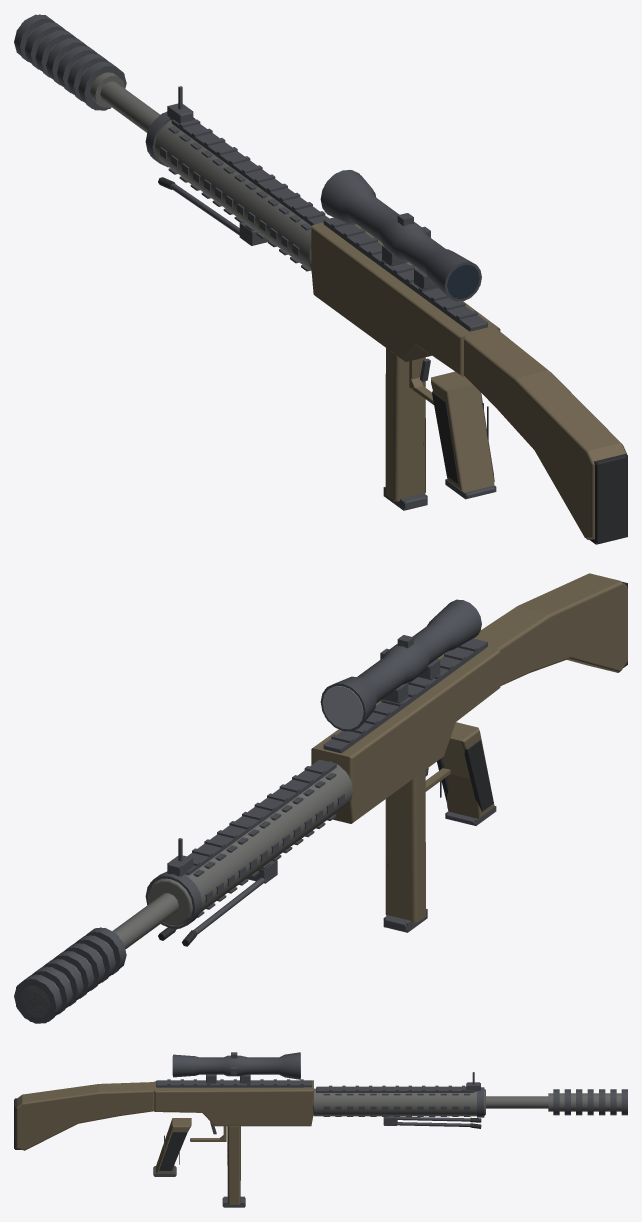
File: b_vanguard.glb
3 views of the same model, one above another, from view 1: azimuth 30°, elevation 25°; view 2: azimuth 150°, elevation 25°; view 3: azimuth 270°, elevation 25° (orthographic). The views are drawn at different scales.
Visible parts, largest first — view 1: L0, L1; view 2: L0, L1; view 3: L0, L1.
Boxes of the visible parts, box(x1,y1,x2,y2) form: L0: box(14, 14, 627, 543); L1: box(21, 14, 627, 544); L0: box(14, 573, 627, 1023); L1: box(16, 582, 627, 1021); L0: box(14, 1052, 627, 1206); L1: box(15, 1052, 627, 1207).
Size of the model in its own units: 0.0572 by 0.3135 by 1.15.
